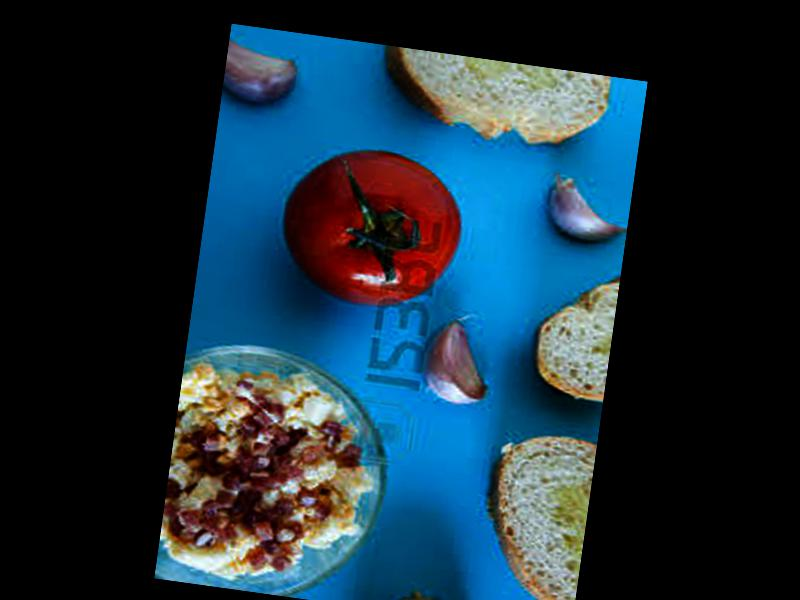Tomato: (275, 139, 471, 310)
